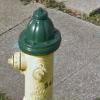Hydrant: (5, 5, 65, 100)
